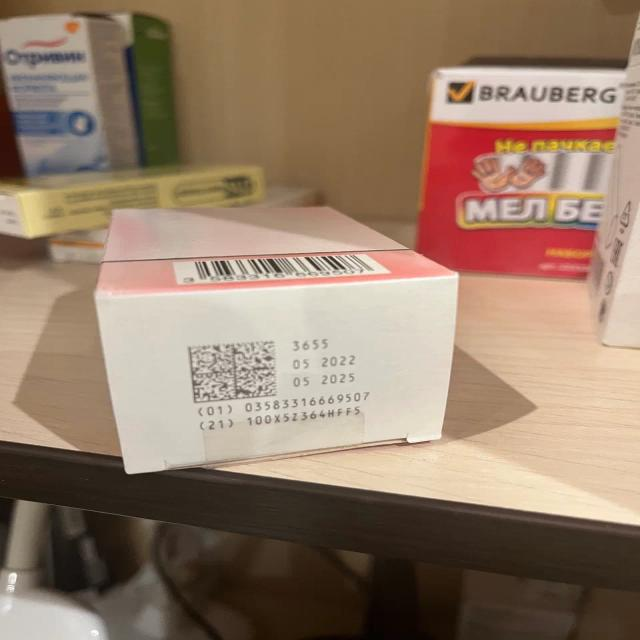datamatrix: (186, 340, 280, 404)
